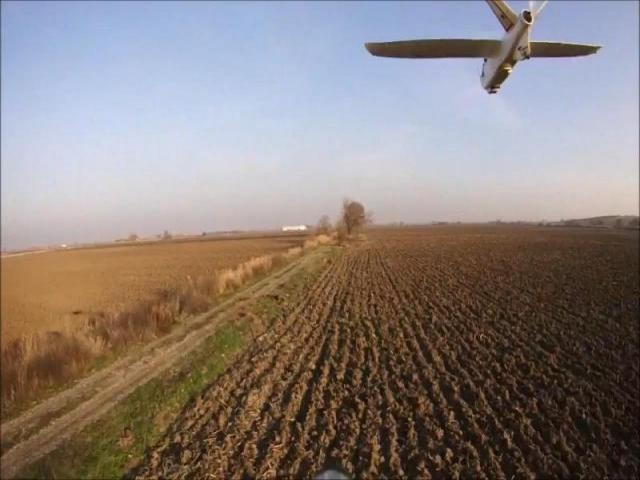hedef: (358, 2, 610, 102)
